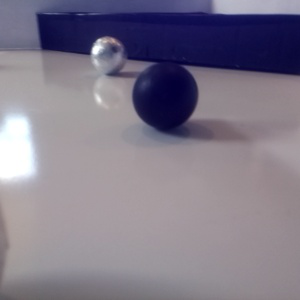zone: (36, 11, 300, 75)
